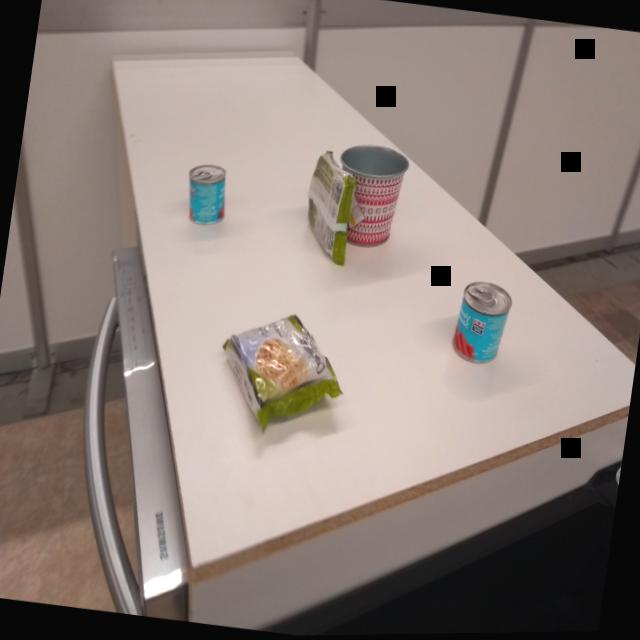noodles: (207, 300, 357, 454), (295, 146, 367, 272)
sausages: (446, 275, 519, 376), (182, 158, 235, 230)
